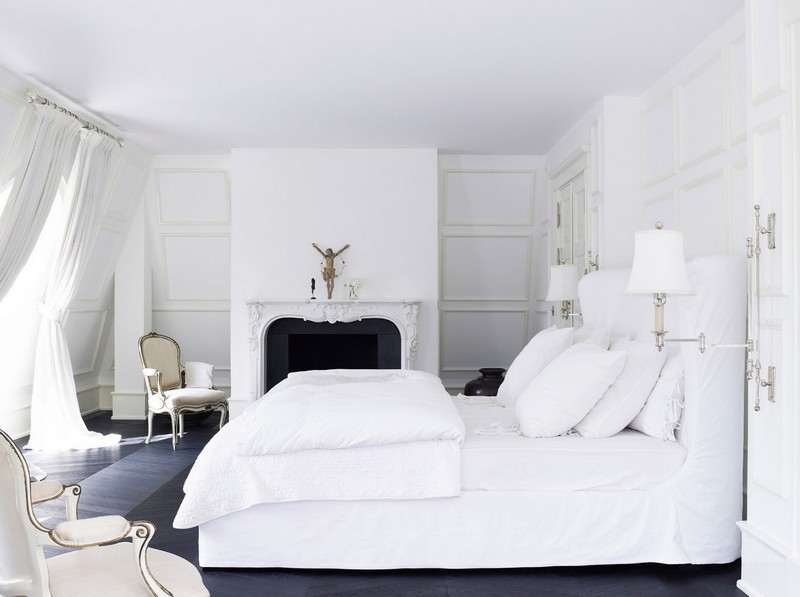bed: (212, 264, 743, 570)
chair: (3, 425, 212, 597), (135, 328, 229, 451)
lamp: (628, 215, 701, 345), (543, 250, 587, 326)
